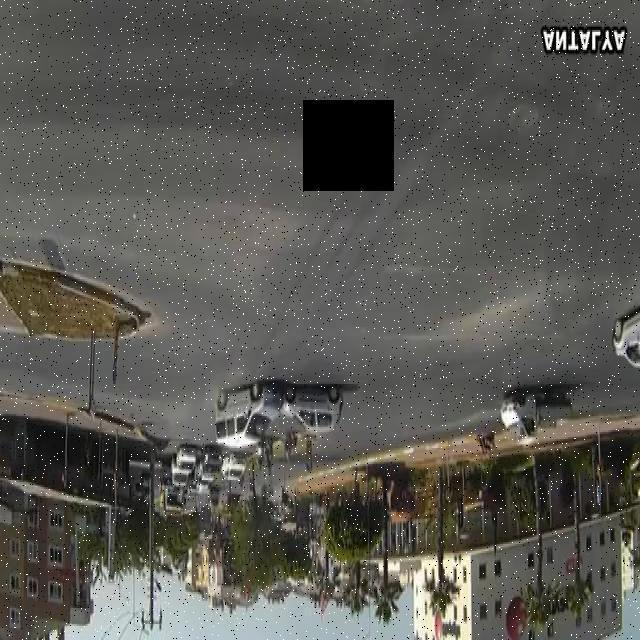vehicle: (196, 362, 368, 464)
